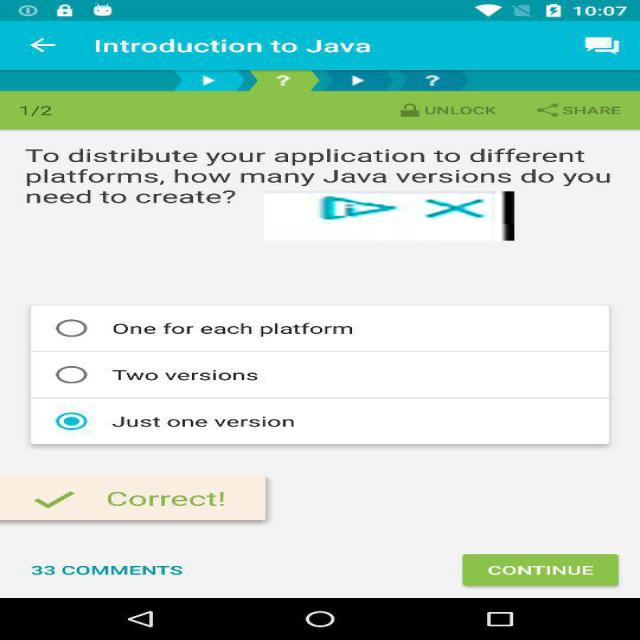sneaking: (264, 191, 514, 241)
